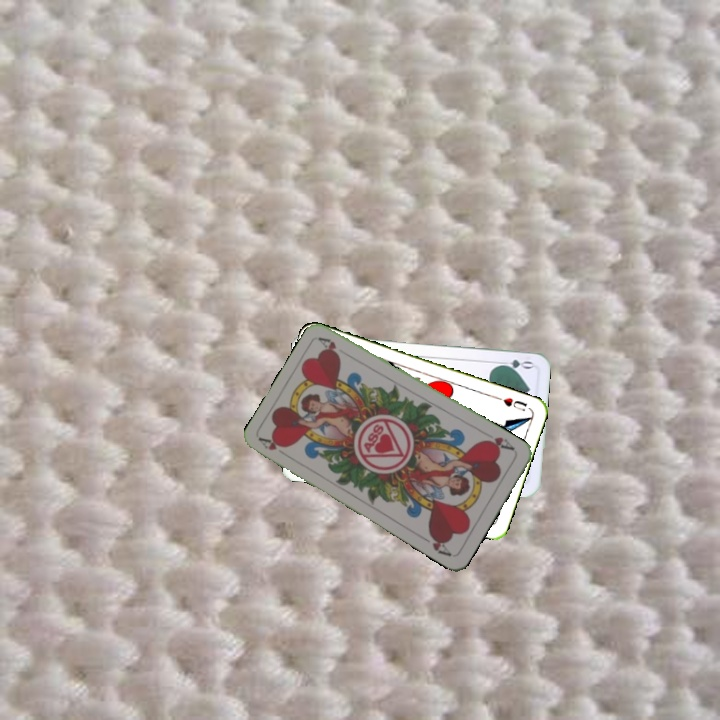GO: (494, 355, 535, 372)
HA: (256, 434, 293, 461), (479, 433, 517, 453)
HU: (493, 392, 530, 414)
